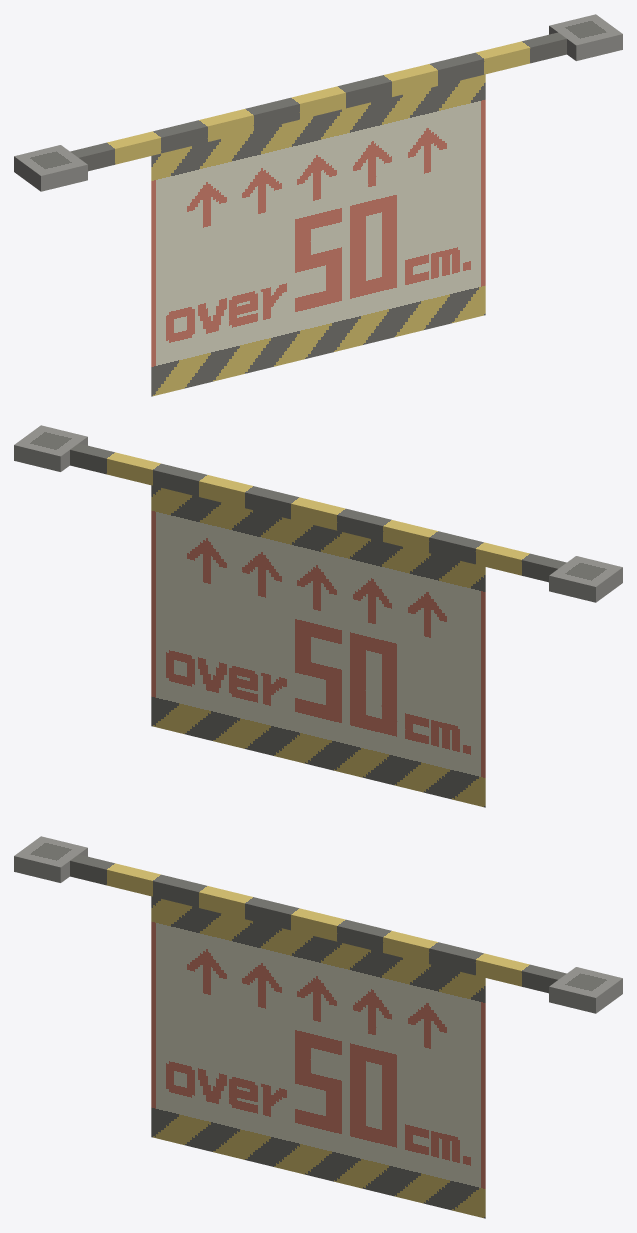
File: 05b5_Over_50cm_Sign.glb
3 views of the same model, one above another, from view 1: azimuth 30°, elevation 25°; view 2: azimuth 150°, elevation 25°; view 3: azimuth 330°, elevation 25° (orthographic).
Parts seen in each view (by area): view 1: part_0; view 2: part_0; view 3: part_0.
Boxes of the visible parts, x1,y1,x2,y2 form: part_0: (14,14,622,396); part_0: (14,425,622,807); part_0: (14,836,622,1218).
Bounding box in the file's own units: 0.435 × 0.1862 × 0.035.
Materials: 1 (1 with a texture image).
